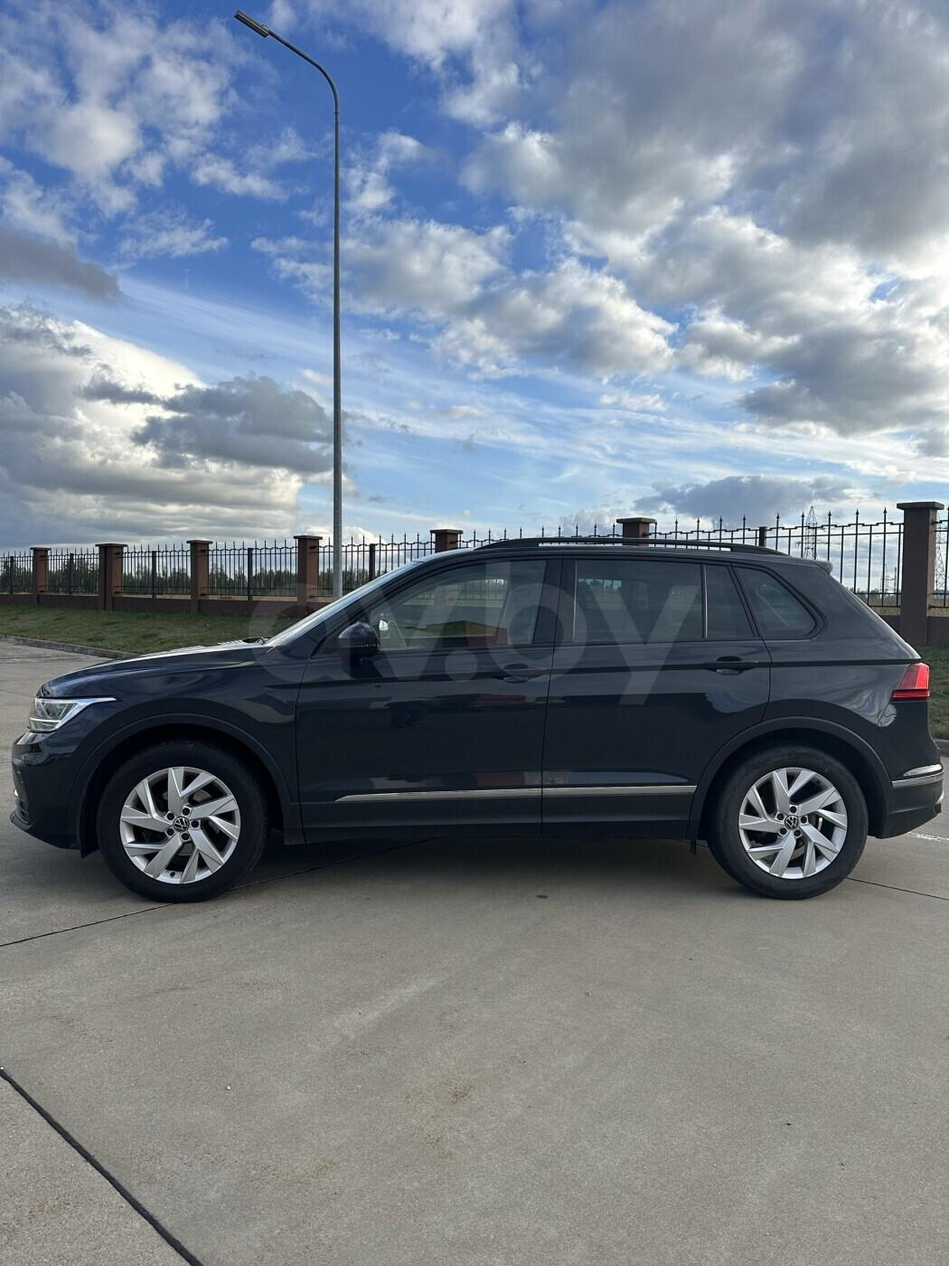Tiguan_2016-2021: (11, 526, 942, 912)
